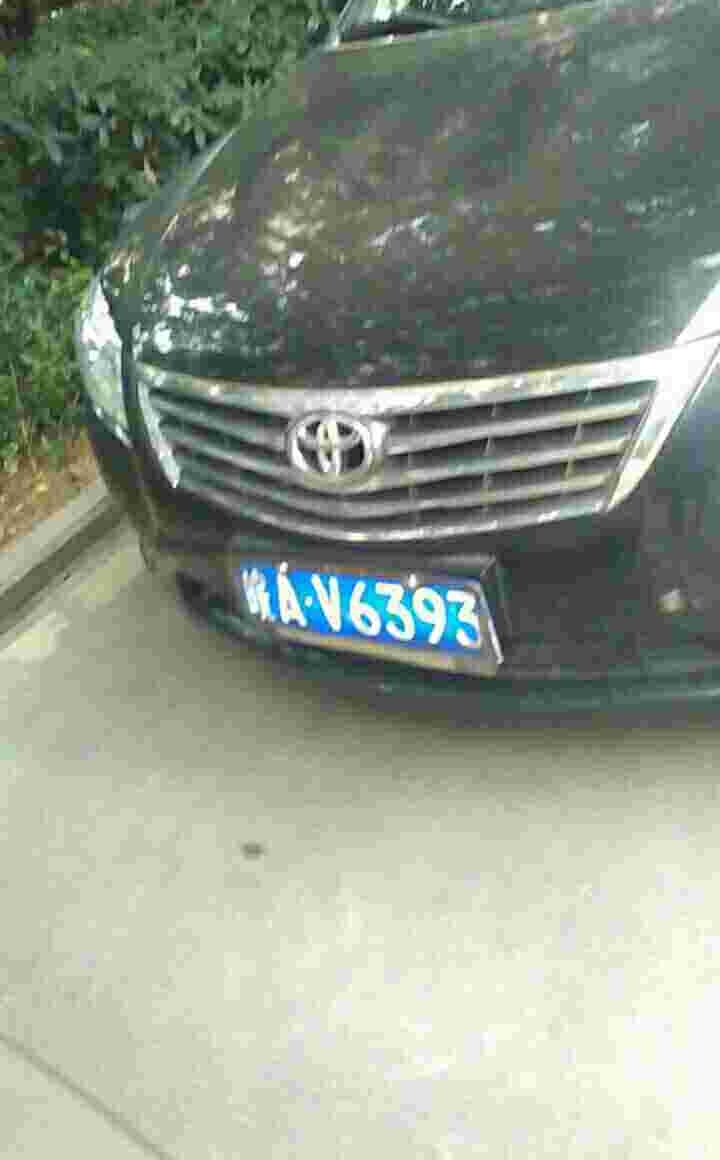license_plate: (243, 564, 488, 662)
